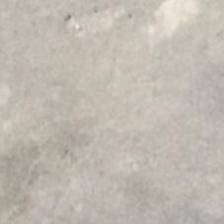Non_Crack: (5, 4, 224, 224)
